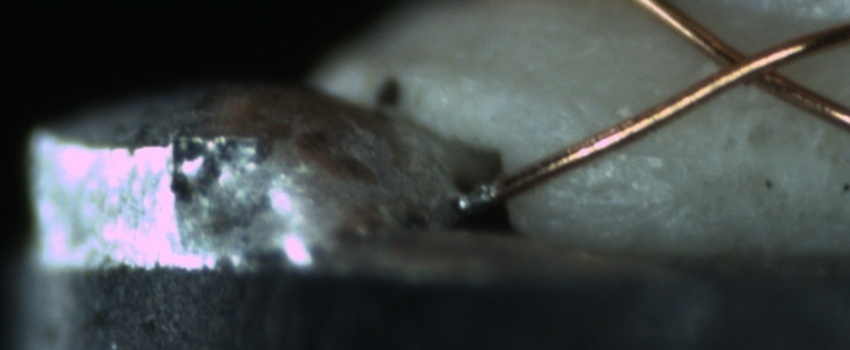CL: (693, 29, 802, 99)
TS: (453, 179, 501, 215)
